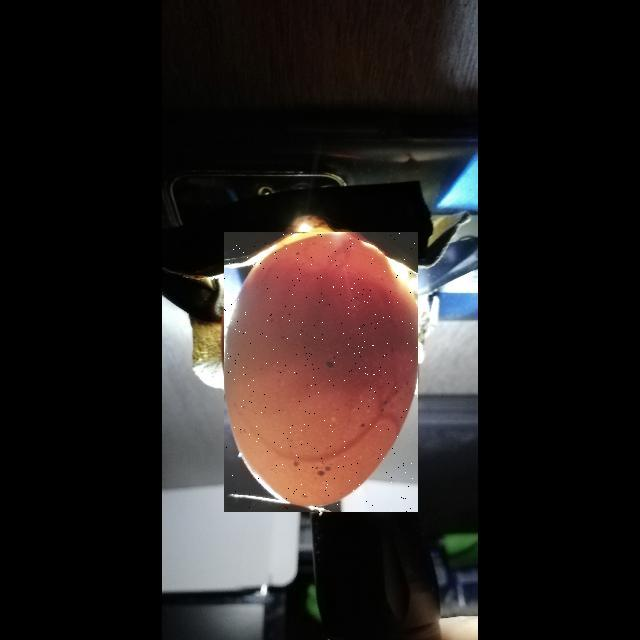Fertile: (224, 232, 418, 512)
